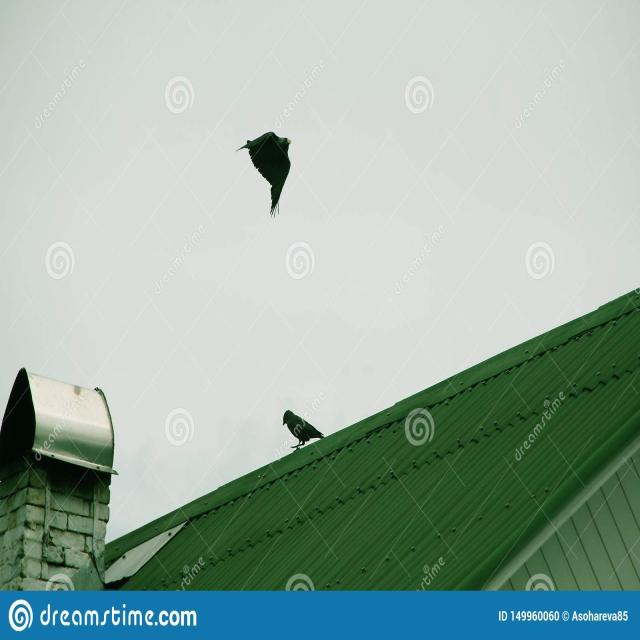bird: (282, 408, 325, 451)
